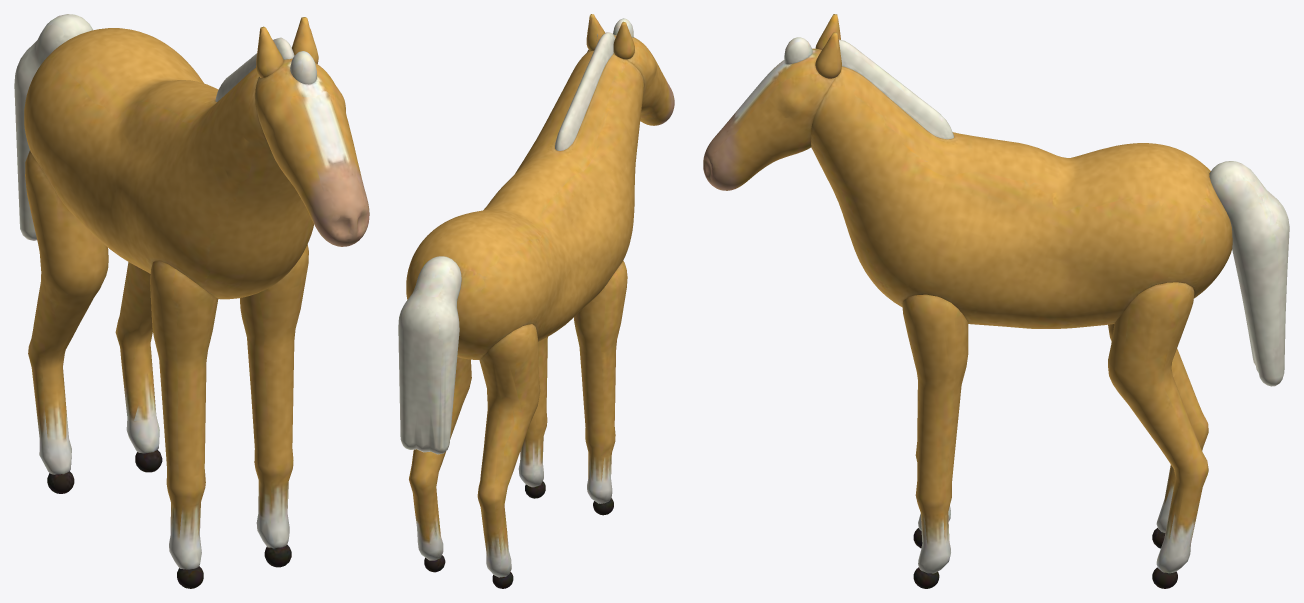
The model's file is animal_palomino.glb.
3 views of the same model, side by side, from view 1: azimuth 30°, elevation 25°; view 2: azimuth 150°, elevation 25°; view 3: azimuth 270°, elevation 25° (orthographic). The views are drawn at different scales.
Visible parts, largest first — view 1: animal_palomino, head, leg0, leg2, leg1, leg3, tail; view 2: animal_palomino, tail, leg2, leg0, leg3, head, leg1; view 3: animal_palomino, leg3, leg1, head, tail, leg2.
Boxes of the visible parts, bbox=[...] form: animal_palomino: bbox=[24, 28, 313, 299]; head: bbox=[255, 17, 369, 246]; leg0: bbox=[150, 261, 218, 588]; leg2: bbox=[25, 150, 108, 493]; leg1: bbox=[240, 244, 308, 567]; leg3: bbox=[115, 262, 162, 472]; tail: bbox=[14, 14, 92, 240]; animal_palomino: bbox=[406, 32, 643, 359]; tail: bbox=[398, 256, 461, 454]; leg2: bbox=[477, 324, 540, 588]; leg0: bbox=[574, 260, 627, 515]; leg3: bbox=[409, 357, 471, 572]; head: bbox=[586, 14, 674, 125]; leg1: bbox=[518, 337, 547, 498]; animal_palomino: bbox=[811, 39, 1232, 328]; leg3: bbox=[1108, 282, 1208, 588]; leg1: bbox=[902, 294, 968, 588]; head: bbox=[703, 14, 841, 190]; tail: bbox=[1209, 161, 1289, 386]; leg2: bbox=[1108, 324, 1208, 548].
Size of the model in its own units: 0.2312 by 0.8228 by 0.8035.
1 material, 1 textured.
